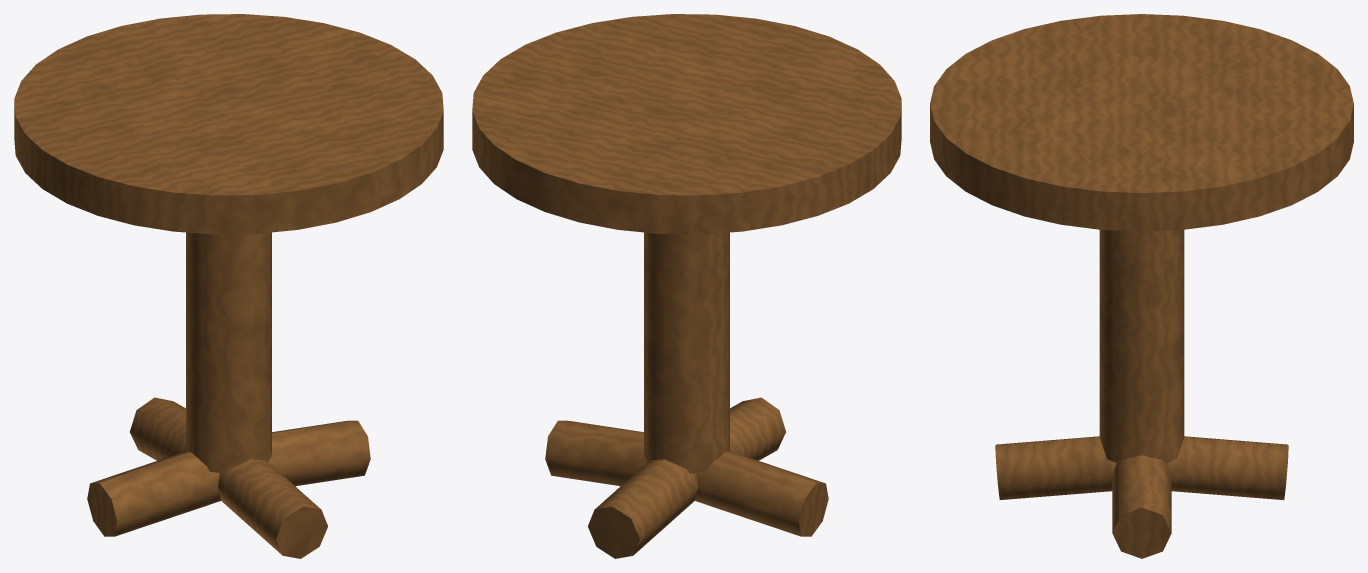
File: Furn_ReadingTable.fbx
3 views of the same model, side by side, from view 1: azimuth 30°, elevation 25°; view 2: azimuth 150°, elevation 25°; view 3: azimuth 270°, elevation 25° (orthographic).
Visible parts, largest first — view 1: Furn_ReadingTable_Mesh; view 2: Furn_ReadingTable_Mesh; view 3: Furn_ReadingTable_Mesh.
Boxes of the visible parts, box(x1,y1,x2,y2) form: Furn_ReadingTable_Mesh: box(14, 14, 443, 558); Furn_ReadingTable_Mesh: box(472, 14, 901, 558); Furn_ReadingTable_Mesh: box(930, 14, 1353, 558).
Bounding box in the file's own units: 0.5 × 0.5149 × 0.5.
1 material, 1 textured.
